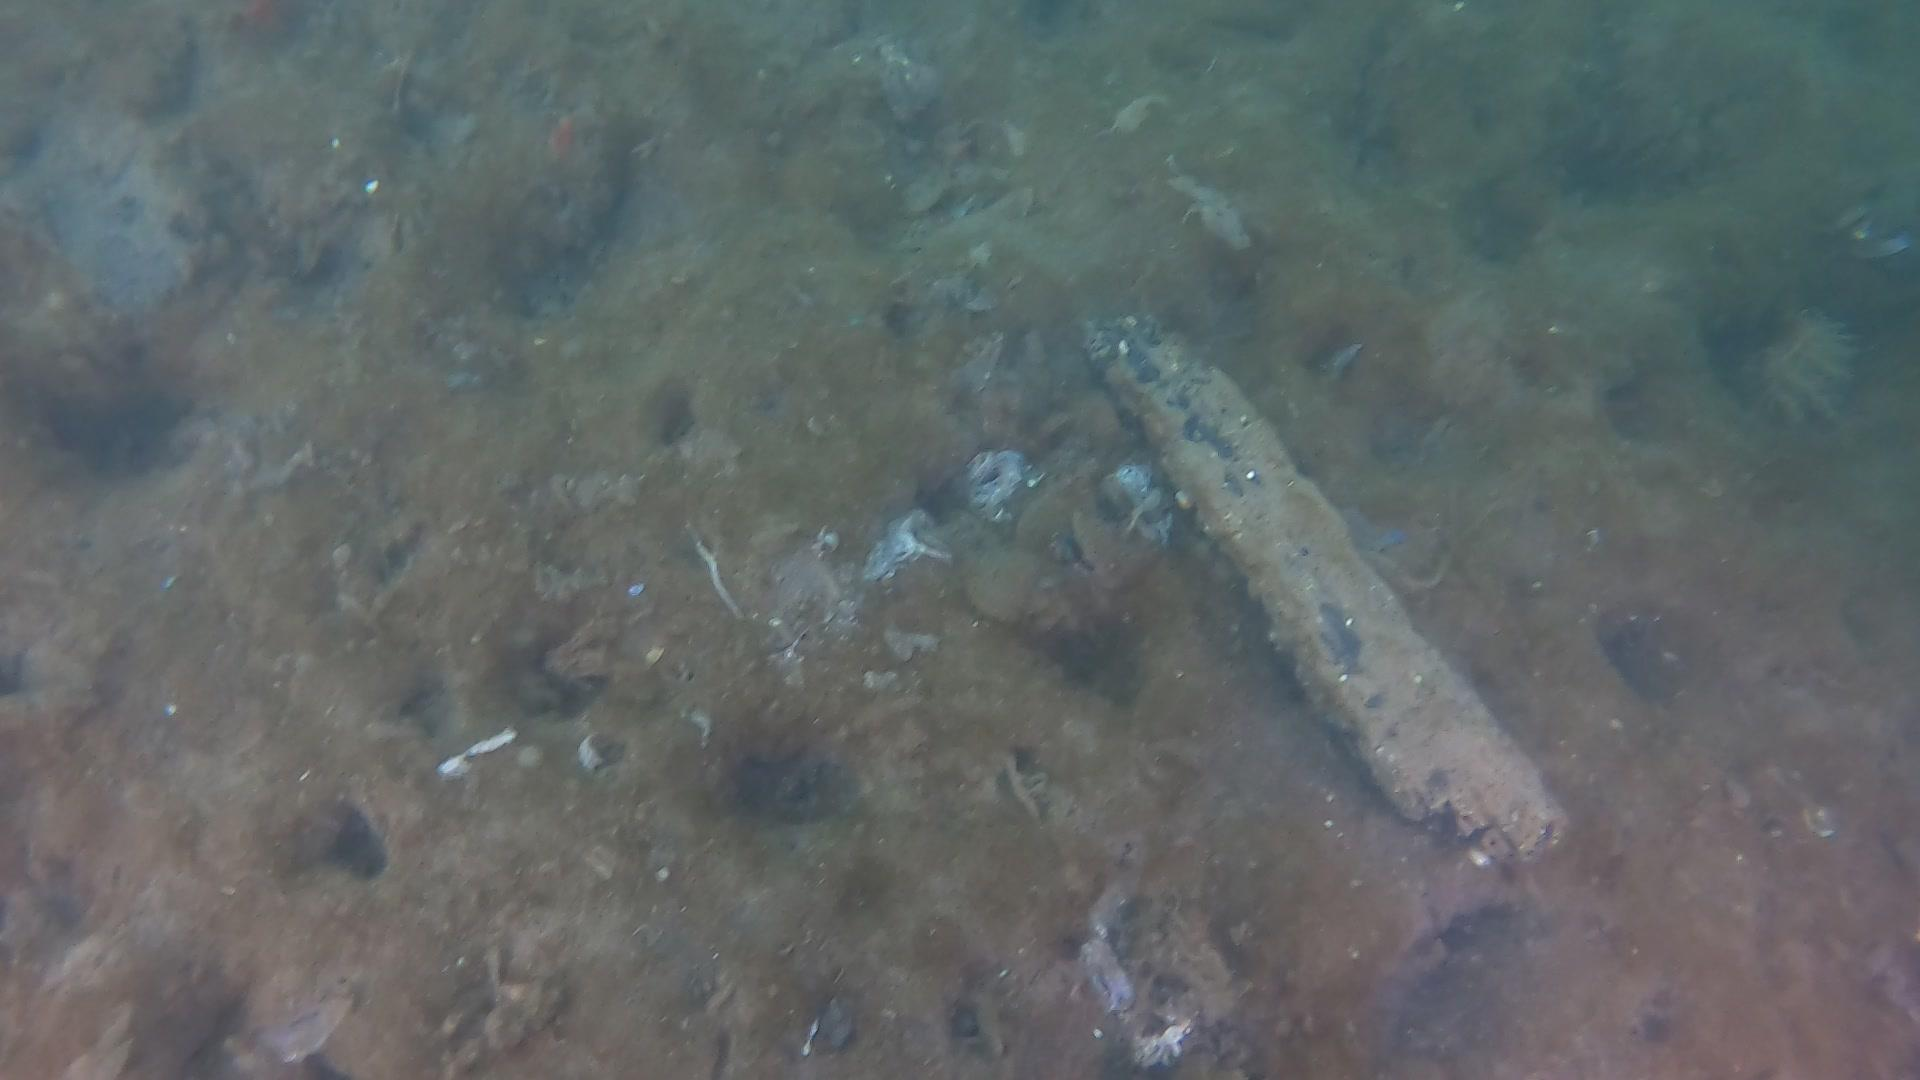wood: (1076, 305, 1572, 876)
